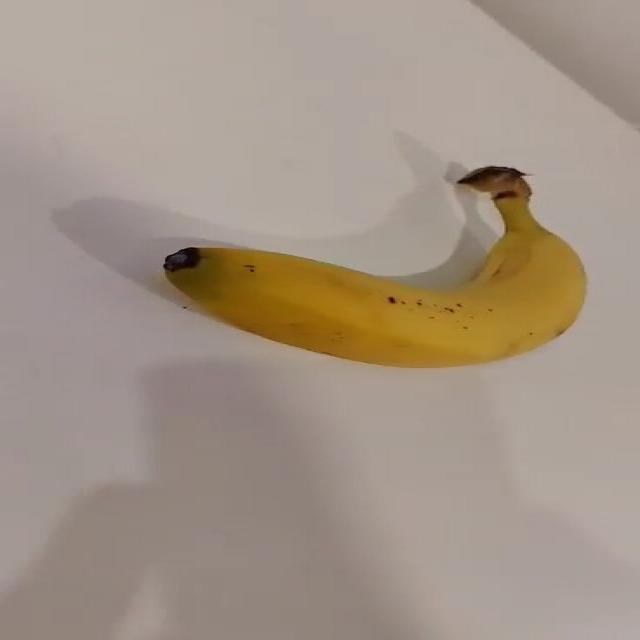Banana: (160, 179, 588, 368)
